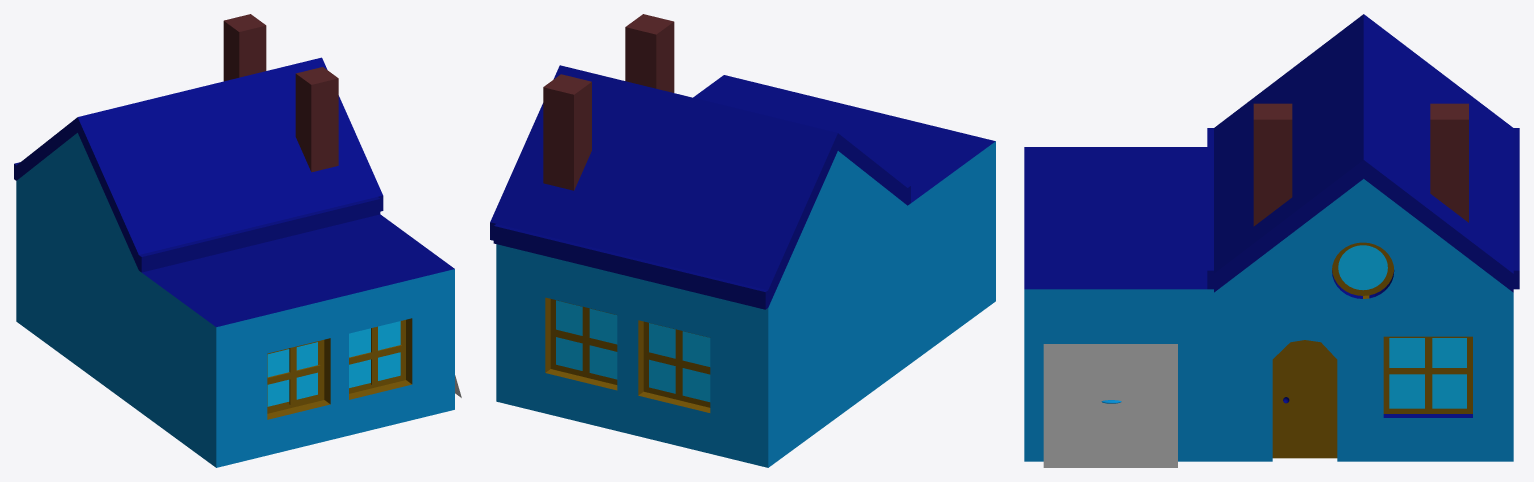
The model's file is Baby Blue House.fbx.
3 renders of one model, left to right at view 1: azimuth 30°, elevation 25°; view 2: azimuth 150°, elevation 25°; view 3: azimuth 270°, elevation 25°, orthographic. The views are drawn at different scales.
Visible parts, largest first — view 1: Cube, Cube.002, Cube.001; view 2: Cube, Cube.001, Cube.002; view 3: Cube, Cube.002, Cube.001.
Boxes of the visible parts, box(x1,y1,x2,y2) form: Cube: box(14, 57, 461, 467); Cube.002: box(295, 67, 338, 172); Cube.001: box(223, 14, 266, 81); Cube: box(490, 65, 995, 467); Cube.001: box(543, 74, 591, 190); Cube.002: box(625, 14, 674, 92); Cube: box(1024, 14, 1519, 467); Cube.002: box(1253, 103, 1292, 226); Cube.001: box(1430, 103, 1468, 222).
Size of the model in its own units: 268 by 271 by 370.
